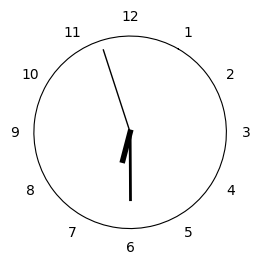12: (122, 9, 139, 22)
circle: (33, 36, 227, 230)
hours: (119, 130, 134, 163)
minutes: (129, 138, 132, 202)
seconds: (103, 49, 131, 130)
